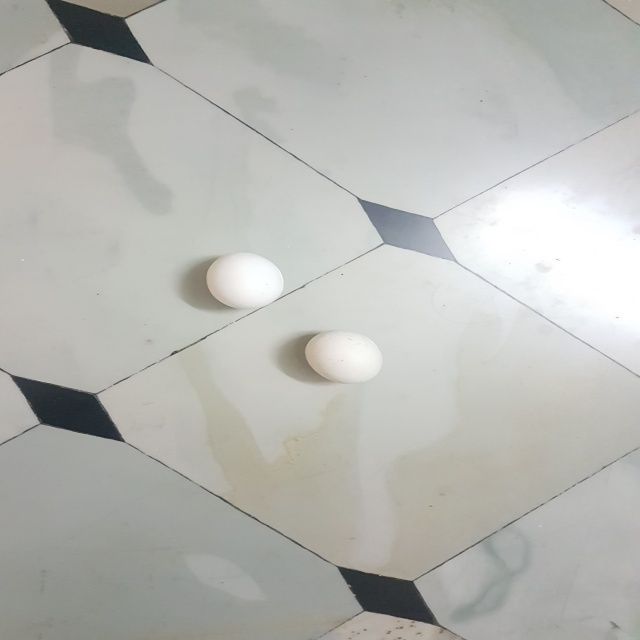eggs: (200, 244, 289, 316), (296, 323, 388, 392)
